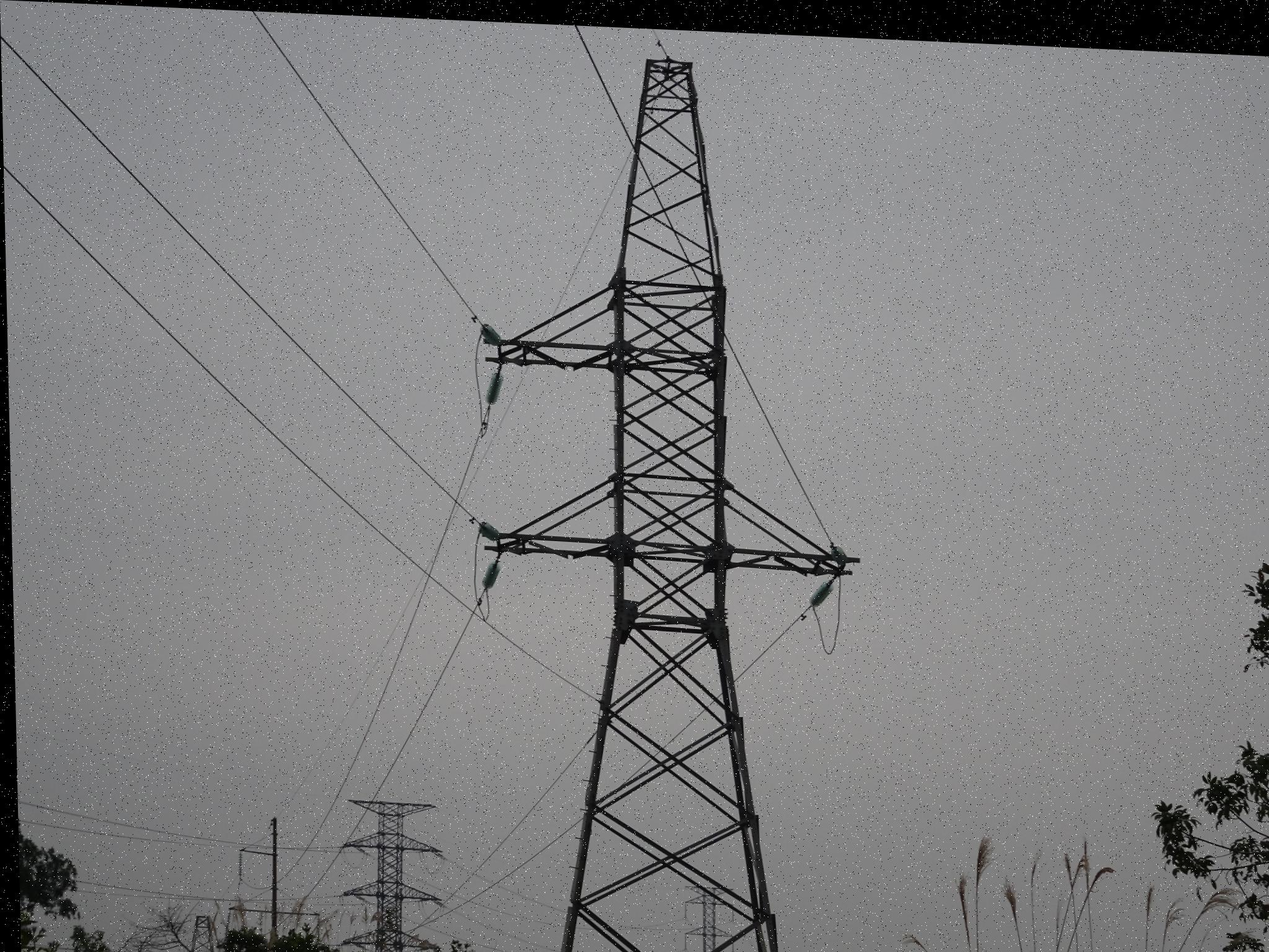tower: (465, 45, 873, 952)
